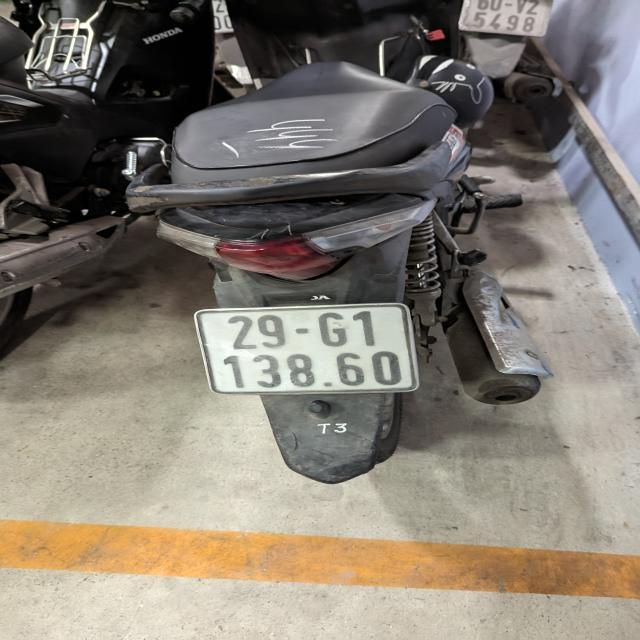license: (193, 301, 420, 395)
